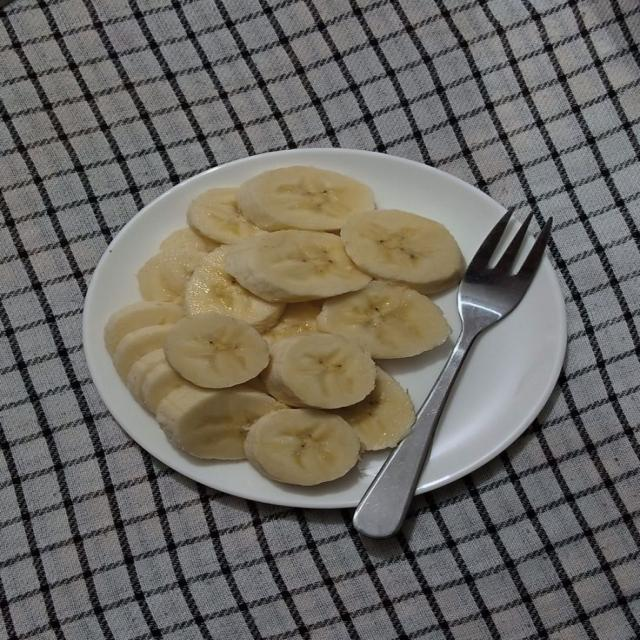banana slice: (225, 231, 370, 302), (317, 281, 450, 358), (341, 210, 464, 293), (157, 386, 282, 459), (245, 409, 359, 486), (185, 246, 285, 332), (238, 167, 374, 230), (261, 333, 375, 408), (165, 312, 268, 388), (334, 368, 415, 450), (187, 188, 265, 243), (105, 302, 183, 355), (138, 249, 205, 304), (140, 352, 195, 412), (114, 325, 174, 380), (262, 301, 321, 345), (125, 348, 165, 404), (160, 228, 219, 252)
